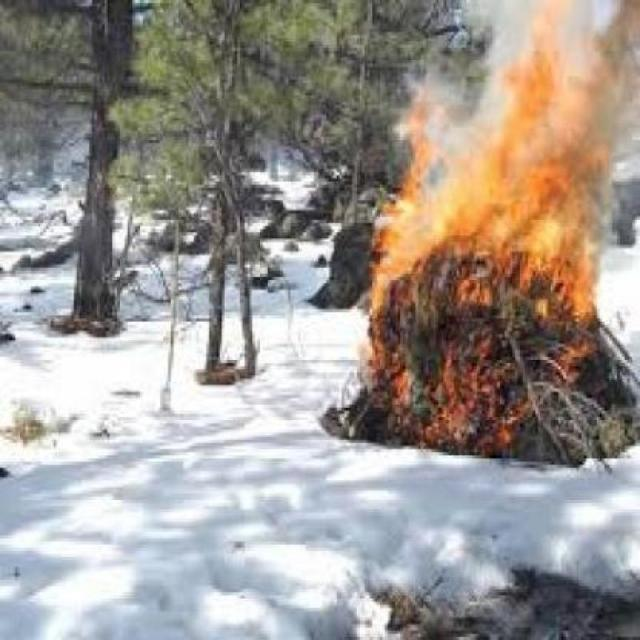Fire: (341, 127, 640, 460)
Smoke: (354, 0, 638, 117)
